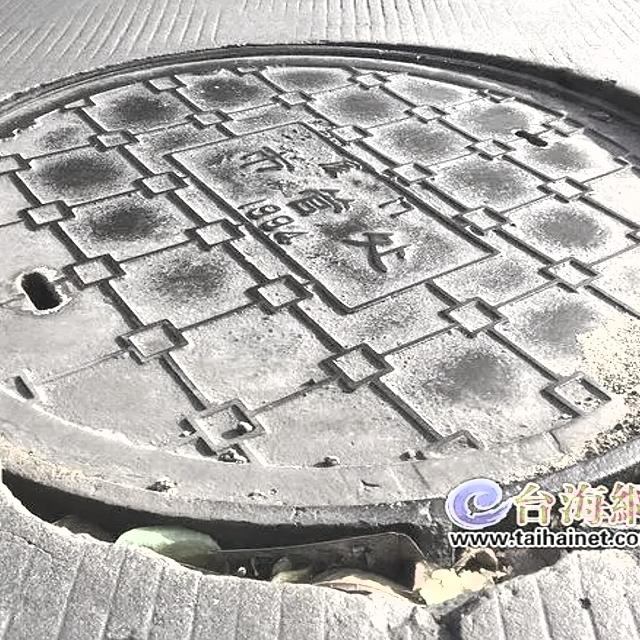circle: (0, 37, 640, 613)
